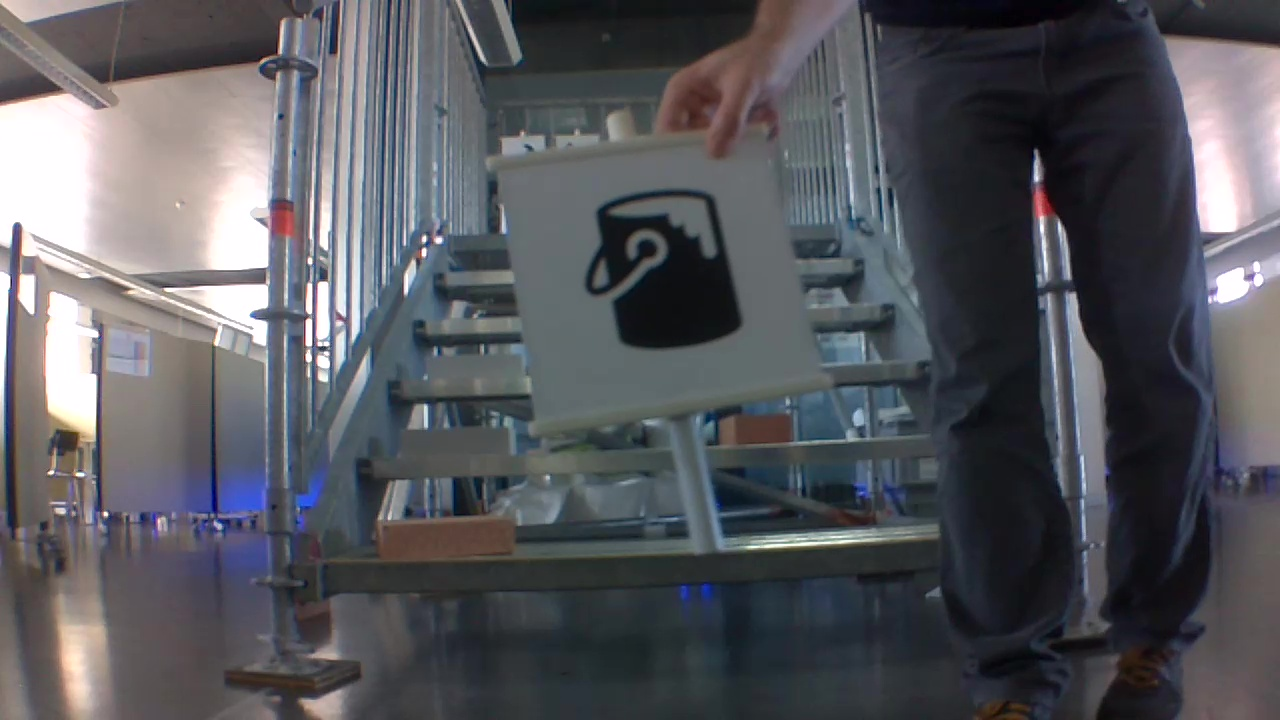brick: (378, 517, 516, 557), (399, 427, 510, 457), (422, 353, 525, 384), (719, 411, 800, 446)
bucket: (585, 184, 742, 351)
edge: (317, 538, 944, 601)
